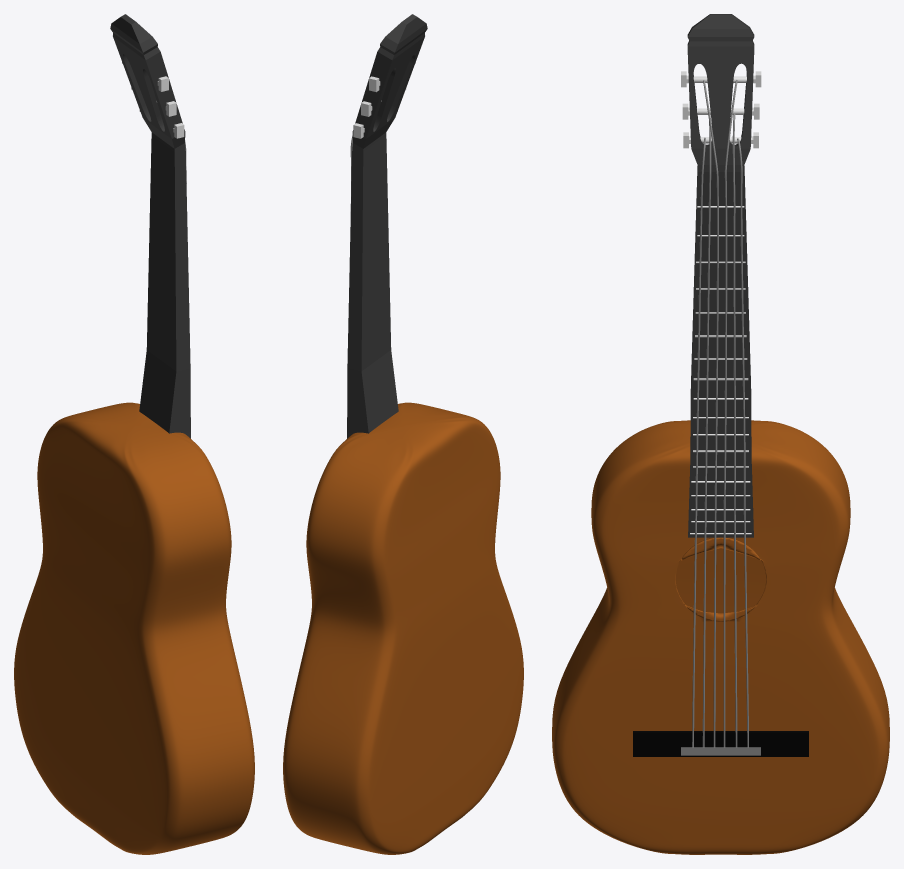
Rendered from Guitar.glb.
3 views of the same model, side by side, from view 1: azimuth 30°, elevation 25°; view 2: azimuth 150°, elevation 25°; view 3: azimuth 270°, elevation 25° (orthographic).
Visible parts, largest first — view 1: Cube, Cube.001; view 2: Cube, Cube.001; view 3: Cube, Cube.001, Cube.002, BézierCurve.003, BézierCurve.002, BézierCurve.001, BézierCurve.004, BézierCurve.005, BézierCurve, Cube.003.
Boxes of the visible parts, bbox=[...] form: Cube: bbox=[14, 402, 254, 854]; Cube.001: bbox=[110, 14, 190, 438]; Cube: bbox=[283, 402, 523, 854]; Cube.001: bbox=[347, 14, 427, 438]; Cube: bbox=[552, 420, 889, 854]; Cube.001: bbox=[687, 14, 754, 537]; Cube.002: bbox=[633, 731, 808, 756]; BézierCurve.003: bbox=[723, 80, 737, 747]; BézierCurve.002: bbox=[703, 80, 718, 747]; BézierCurve.001: bbox=[702, 113, 711, 747]; BézierCurve.004: bbox=[732, 113, 737, 747]; BézierCurve.005: bbox=[737, 138, 748, 747]; BézierCurve: bbox=[692, 137, 705, 747]; Cube.003: bbox=[681, 747, 760, 755].
Size of the model in its own units: 0.5589 by 4.62 by 1.72.
